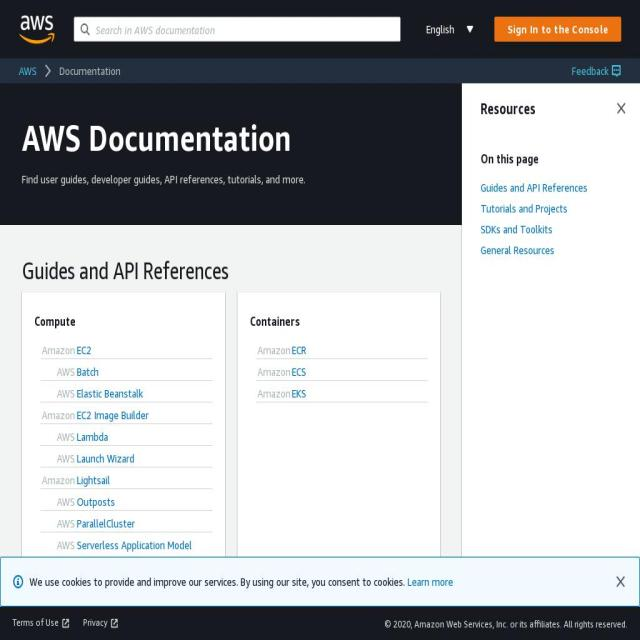button: (41, 537, 212, 570), (494, 16, 621, 42), (255, 363, 428, 380), (255, 385, 428, 402), (41, 363, 212, 380), (41, 385, 212, 402), (41, 428, 212, 445), (41, 450, 212, 467), (41, 493, 212, 510), (41, 515, 212, 532), (41, 575, 212, 592), (255, 342, 428, 358), (41, 342, 212, 358), (41, 407, 212, 423), (41, 472, 212, 488), (419, 16, 482, 42), (19, 14, 55, 44), (60, 63, 120, 79), (19, 63, 37, 79)
field: (73, 16, 400, 42)
heading: (22, 254, 440, 288), (22, 115, 291, 159), (34, 313, 212, 329), (250, 313, 428, 329), (481, 100, 621, 117), (481, 150, 621, 167)
image: (19, 14, 55, 44)
link: (408, 574, 453, 588)
text: (22, 166, 440, 192), (30, 574, 408, 588), (76, 537, 212, 570), (384, 617, 628, 630), (76, 575, 210, 592), (480, 180, 588, 194), (507, 22, 609, 36), (480, 201, 568, 215), (41, 537, 77, 570), (76, 407, 149, 423), (76, 385, 143, 402), (480, 242, 554, 256), (480, 222, 552, 236), (76, 515, 135, 532), (76, 450, 134, 467), (60, 64, 120, 78), (76, 493, 115, 510), (41, 363, 77, 380), (41, 385, 77, 402), (41, 428, 77, 445), (41, 450, 77, 467), (41, 493, 77, 510), (41, 515, 77, 532), (41, 575, 77, 592), (256, 363, 292, 380), (256, 385, 292, 402), (12, 616, 58, 629), (41, 342, 77, 358), (41, 407, 77, 423), (41, 472, 77, 488), (256, 342, 292, 358), (76, 428, 108, 445), (76, 472, 110, 488), (572, 64, 609, 78), (426, 21, 454, 37), (76, 363, 99, 380), (83, 616, 108, 629), (76, 342, 92, 358), (19, 64, 37, 78), (292, 363, 306, 380), (292, 385, 306, 402), (292, 342, 306, 358)
